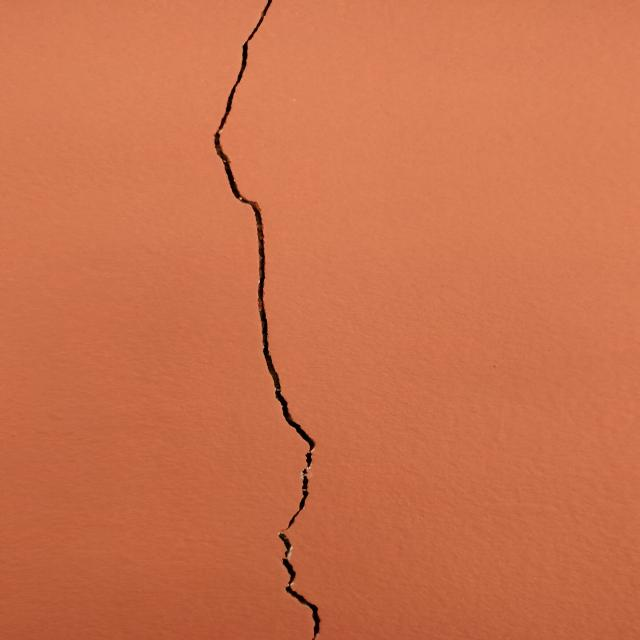Crack: (195, 0, 337, 635)
